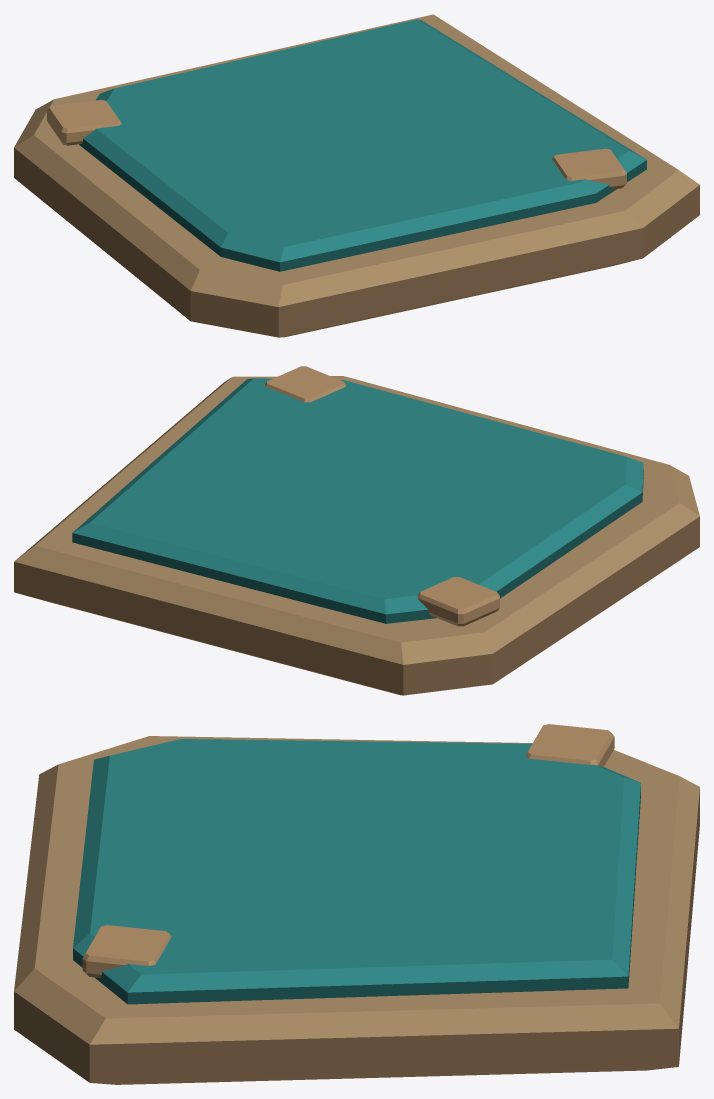
The model's file is oase_26.glb.
The picture shows the model from 3 angles, top to bottom: view 1: azimuth 30°, elevation 25°; view 2: azimuth 150°, elevation 25°; view 3: azimuth 270°, elevation 25°; orthographic projection. The views are drawn at different scales.
Parts seen in each view (by area): view 1: oase_26; view 2: oase_26; view 3: oase_26.
Part boxes in pixels (x1,y1,x2,y2): oase_26: (14, 14, 699, 337); oase_26: (14, 366, 699, 695); oase_26: (14, 724, 699, 1084).
Bounding box in the file's own units: 2 × 0.3041 × 1.93.
